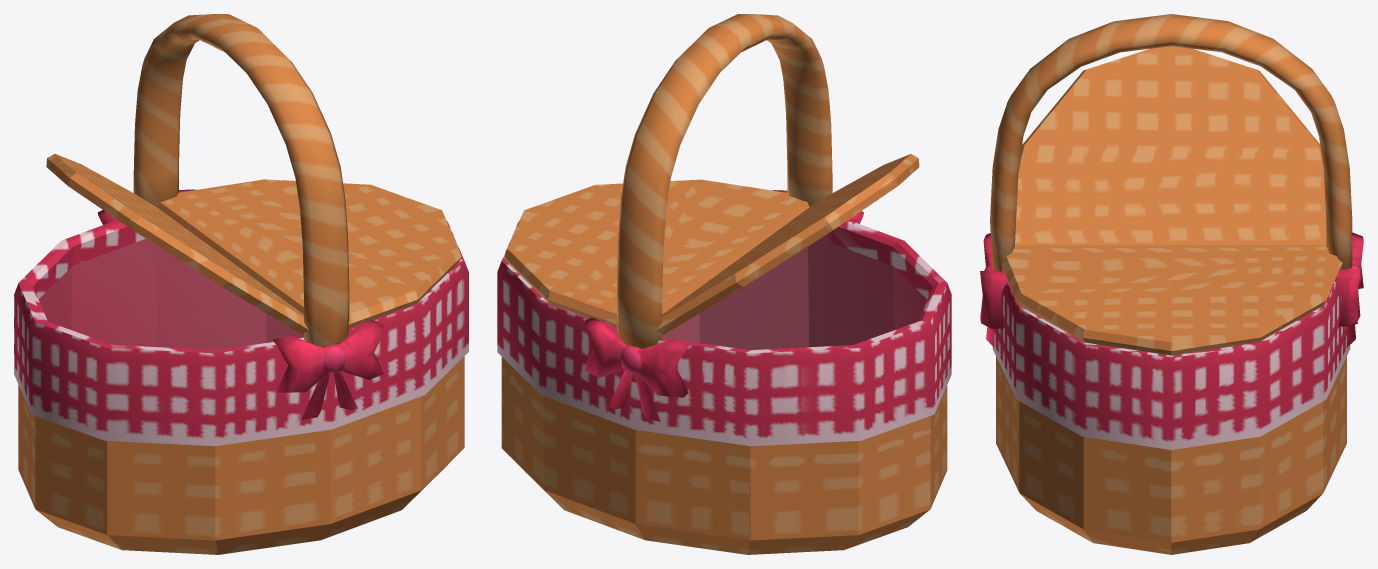
The model's file is PicnicBasket.fbx.
3 views of the same model, side by side, from view 1: azimuth 30°, elevation 25°; view 2: azimuth 150°, elevation 25°; view 3: azimuth 270°, elevation 25° (orthographic).
Parts seen in each view (by area): view 1: PicnicBasket; view 2: PicnicBasket; view 3: PicnicBasket.
Boxes of the visible parts, <box> form: PicnicBasket: <box>14,14,468,554</box>; PicnicBasket: <box>497,14,951,554</box>; PicnicBasket: <box>980,14,1363,554</box>.
Size of the model in its own units: 85.85 by 88.63 by 68.77.
